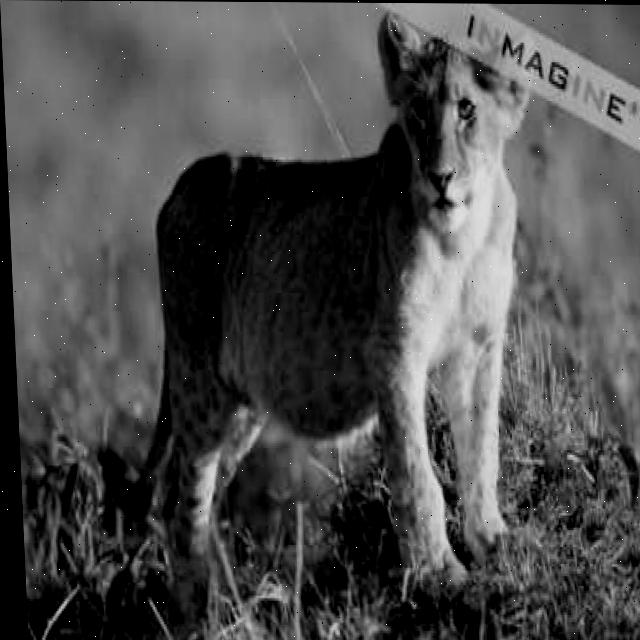Lion: (129, 51, 629, 513)
